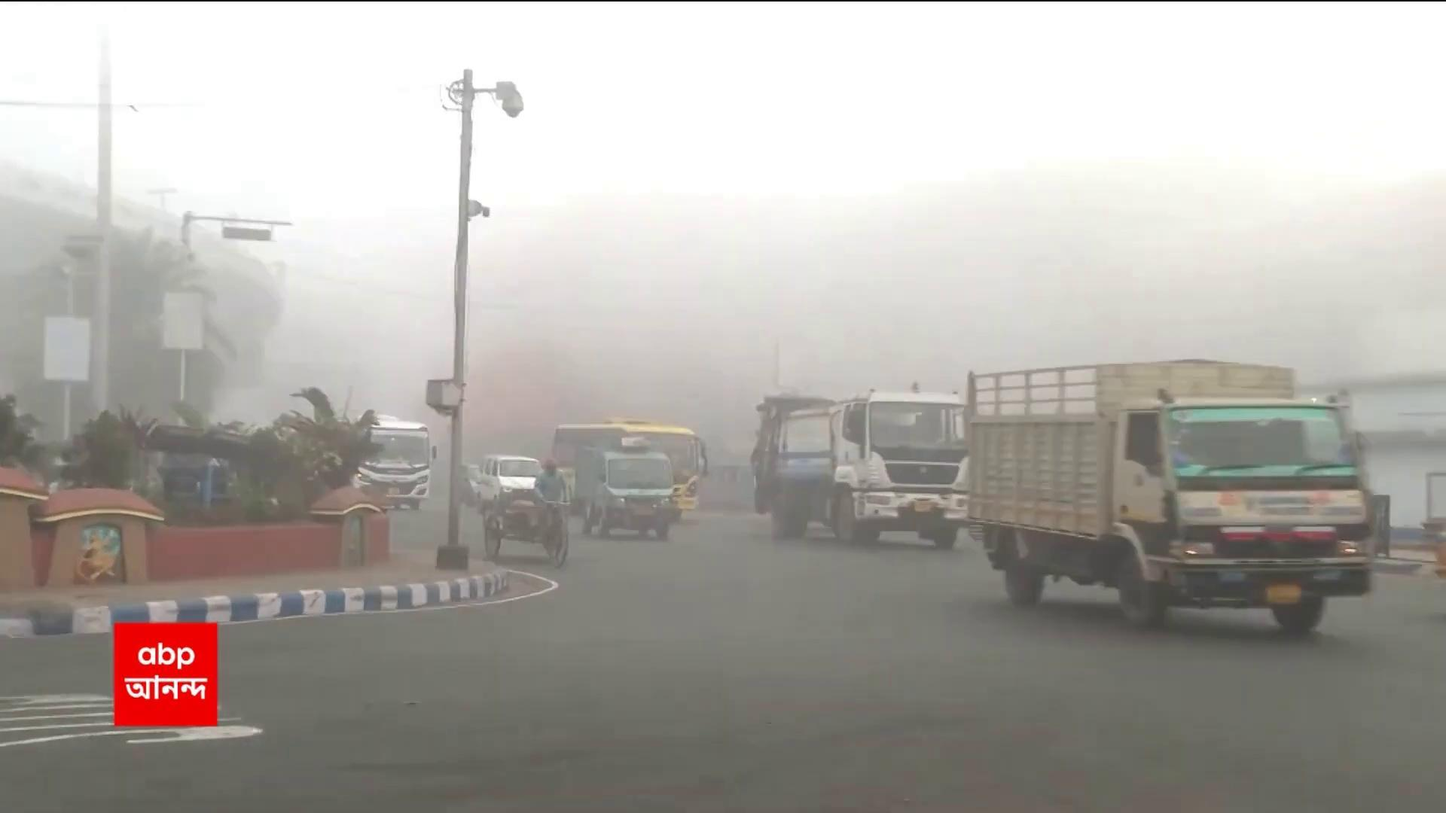Truck: (959, 356, 1381, 632), (754, 389, 963, 545), (573, 436, 680, 537)
